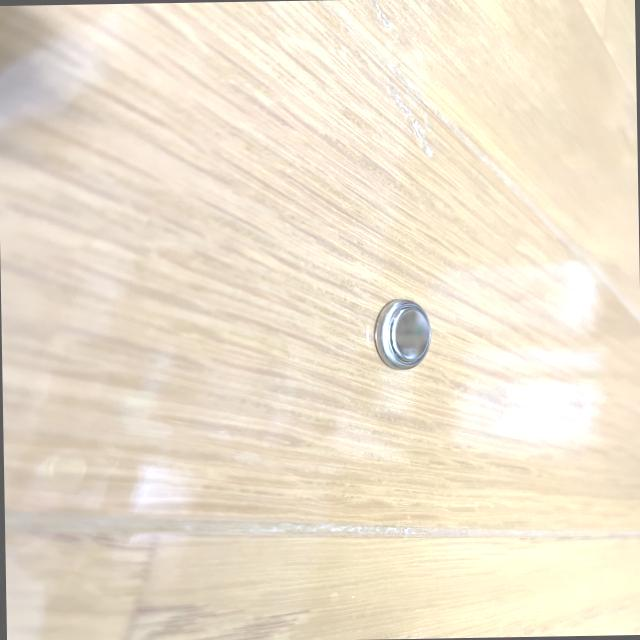COIN: (373, 298, 430, 370)
